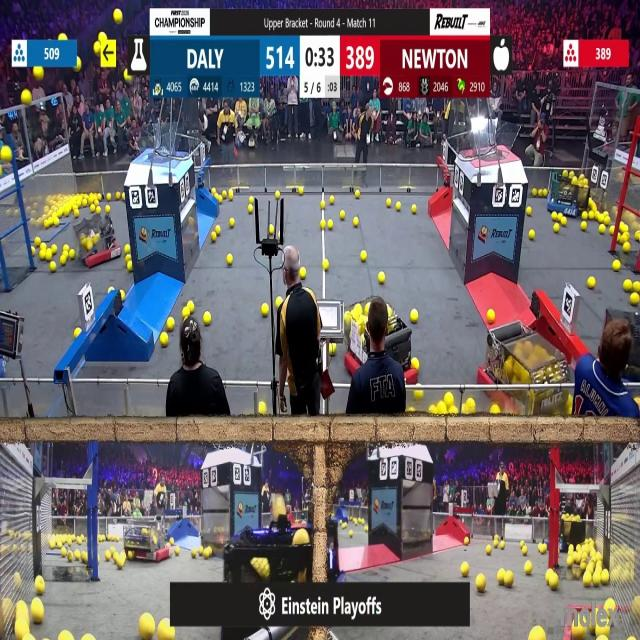ball_airborne: (1, 146, 11, 161), (22, 91, 32, 105), (34, 67, 44, 80), (113, 9, 122, 22), (99, 32, 107, 43), (76, 58, 81, 71), (123, 70, 129, 80), (60, 34, 67, 42), (0, 169, 4, 178)
ball_ground: (159, 619, 172, 640), (32, 601, 44, 623), (477, 574, 486, 592), (36, 578, 45, 596), (530, 628, 544, 639), (503, 570, 512, 586), (550, 574, 559, 590), (258, 403, 266, 418), (497, 569, 505, 584), (594, 571, 602, 586), (204, 312, 212, 326), (461, 562, 469, 576), (584, 572, 592, 586), (604, 599, 613, 611), (162, 334, 170, 347), (115, 558, 124, 569), (602, 570, 609, 584), (630, 292, 638, 304), (624, 280, 632, 292), (446, 393, 454, 405), (412, 310, 419, 323), (488, 310, 495, 323), (263, 305, 270, 318), (525, 562, 532, 575), (298, 269, 306, 280), (379, 273, 386, 285), (168, 318, 175, 330), (81, 552, 88, 564), (491, 407, 499, 417), (60, 632, 70, 640), (412, 358, 420, 368), (187, 303, 195, 313), (448, 408, 456, 418), (322, 261, 329, 272), (589, 278, 596, 289), (415, 390, 423, 399), (614, 262, 621, 272), (128, 552, 135, 562), (538, 543, 545, 553), (328, 344, 335, 354), (602, 214, 609, 224), (226, 253, 232, 264), (360, 250, 366, 261), (634, 281, 640, 292), (618, 234, 624, 245), (579, 221, 586, 230), (269, 224, 276, 233), (623, 234, 630, 243), (50, 264, 56, 274), (529, 231, 535, 241), (624, 243, 630, 253), (182, 308, 188, 318), (74, 327, 80, 337), (320, 219, 326, 229), (61, 254, 67, 264), (75, 551, 81, 561), (39, 250, 45, 260), (205, 550, 211, 560), (45, 251, 51, 261), (596, 211, 602, 221), (69, 250, 76, 258), (599, 224, 605, 233), (123, 245, 129, 254), (386, 200, 392, 209), (526, 207, 532, 216), (227, 190, 233, 199), (231, 218, 237, 227), (61, 549, 67, 558), (566, 558, 572, 567), (128, 263, 133, 273), (555, 222, 560, 232), (353, 216, 358, 226), (487, 544, 492, 554), (635, 232, 640, 242), (53, 243, 58, 253), (297, 187, 303, 195), (540, 188, 546, 196), (82, 634, 90, 640), (621, 223, 627, 231), (579, 562, 585, 570), (341, 211, 346, 220), (413, 205, 418, 214), (523, 545, 528, 554), (327, 219, 332, 228), (561, 217, 566, 226), (609, 225, 614, 234), (277, 296, 282, 305), (35, 238, 40, 247), (74, 209, 79, 218), (64, 248, 69, 257), (464, 536, 469, 544), (212, 234, 217, 242), (248, 206, 253, 214), (276, 190, 281, 198), (355, 190, 360, 198), (581, 212, 586, 220), (191, 550, 195, 560), (119, 290, 124, 298), (68, 551, 72, 561), (115, 534, 120, 542), (82, 200, 87, 208), (396, 203, 400, 212), (106, 552, 110, 561), (216, 225, 220, 234), (348, 531, 354, 537), (107, 192, 112, 199), (532, 188, 537, 195), (500, 540, 504, 548), (106, 206, 110, 214), (553, 212, 557, 220), (320, 202, 324, 210), (116, 191, 120, 199), (92, 205, 96, 213), (120, 191, 124, 199), (99, 534, 103, 542), (363, 526, 368, 532), (97, 207, 101, 214), (329, 198, 333, 205), (249, 198, 253, 205), (32, 248, 36, 255), (176, 546, 180, 553), (171, 538, 175, 544), (521, 540, 525, 546)
goal: (464, 120, 522, 160), (129, 130, 189, 160)
robot_blue: (548, 169, 586, 216)
robot_red: (483, 322, 535, 410), (123, 516, 172, 562), (78, 216, 121, 268)
